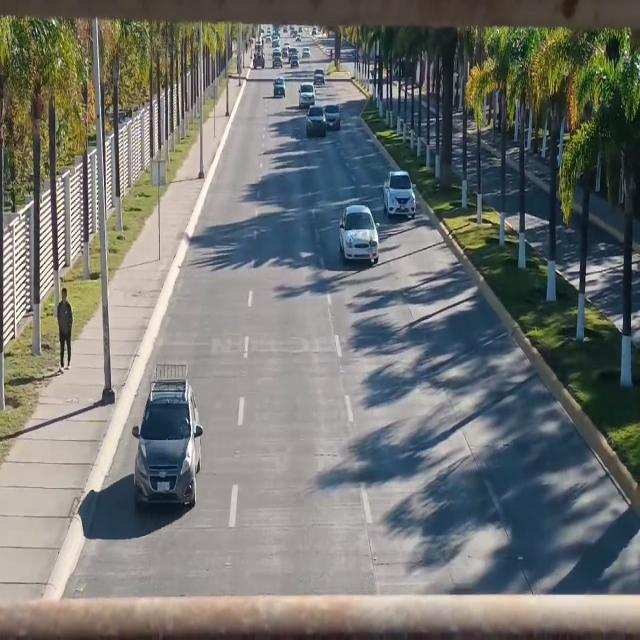Auto: (133, 366, 202, 510), (339, 206, 380, 267), (383, 172, 415, 222), (308, 101, 327, 137), (300, 84, 316, 110)
Peaton: (57, 281, 72, 370)
